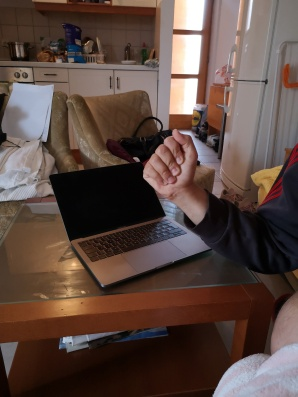A: (141, 127, 201, 199)
